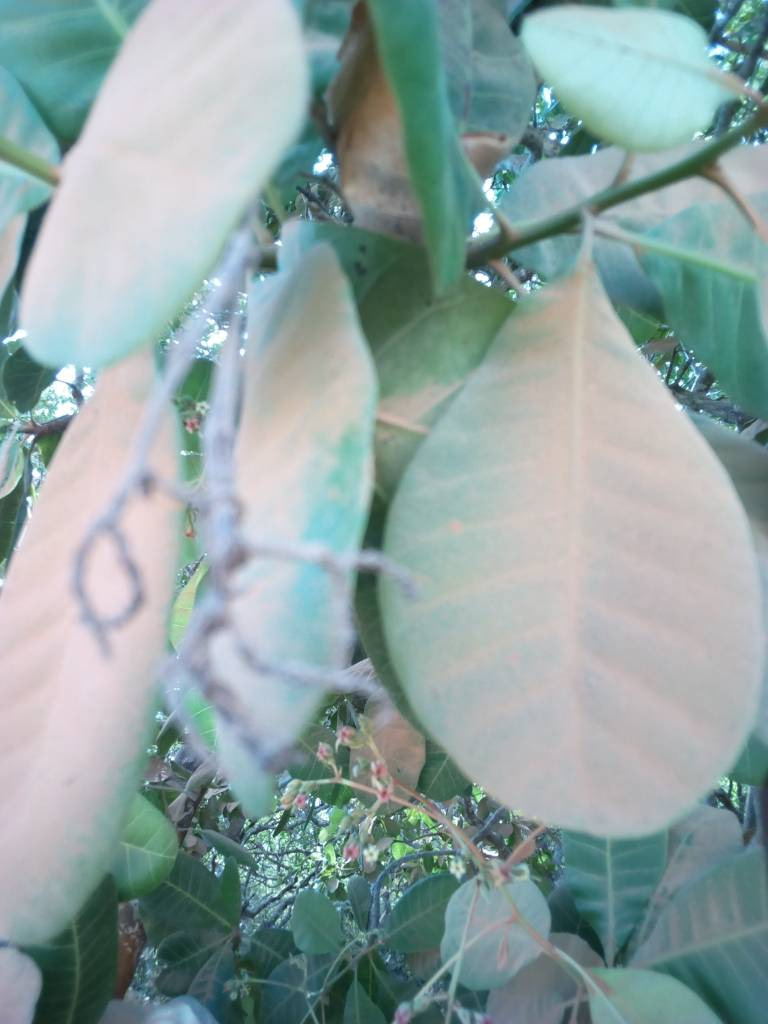Dessèchement des bourgeons: (80, 489, 416, 771)
